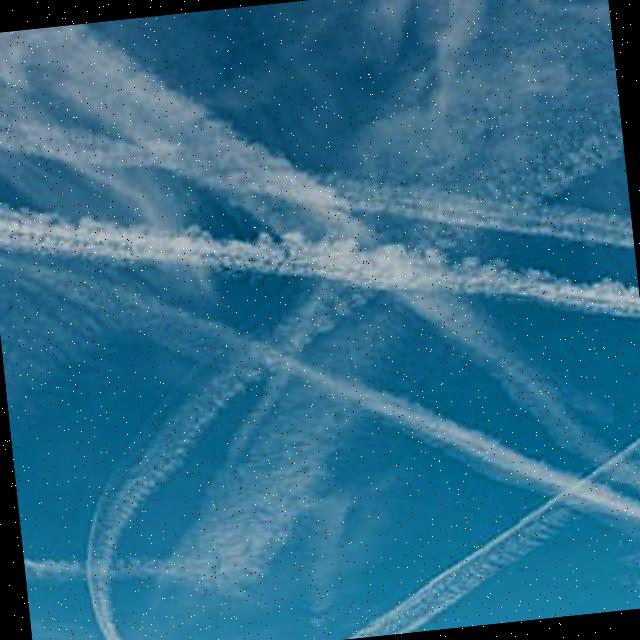Ct: (1, 65, 640, 640)
